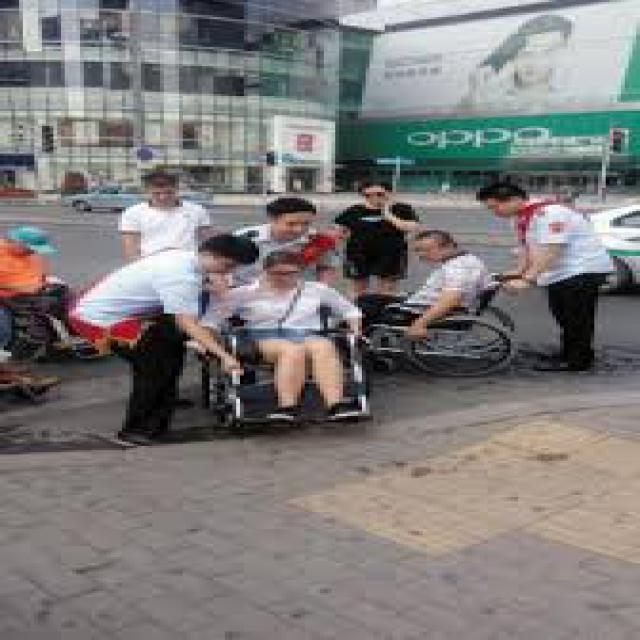wheelchairs: (369, 264, 583, 378), (186, 305, 370, 420), (0, 260, 130, 363)
